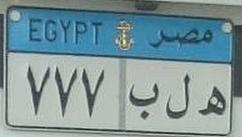7: (80, 66, 108, 118), (26, 59, 50, 119), (53, 64, 77, 121)
baa: (126, 76, 160, 124)
haa: (197, 80, 228, 121)
laam: (164, 72, 193, 120)
